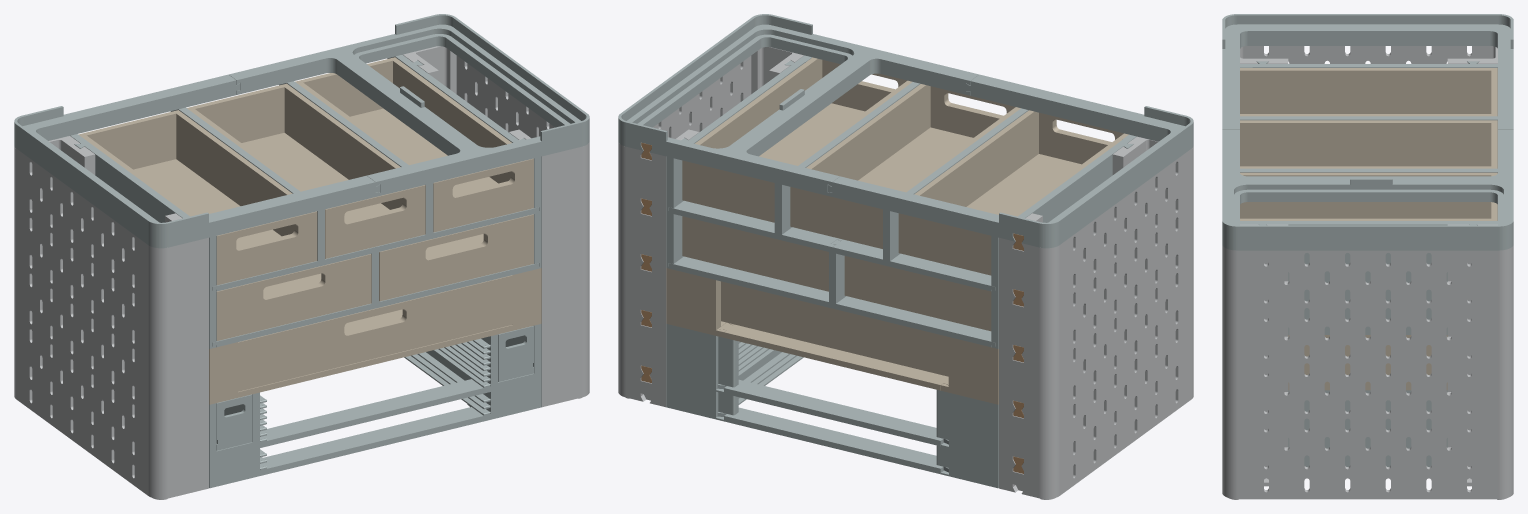
The model's file is stacknest-wide-pegboard.glb.
3 renders of one model, left to right at view 1: azimuth 30°, elevation 25°; view 2: azimuth 150°, elevation 25°; view 3: azimuth 270°, elevation 25°, orthographic.
Parts seen in each view (by area): view 1: device_adapter_2, 3drawers_drawer_1, 3drawers_drawer_2, device_adapter_1, standard_2_drawer_1, 3drawers_drawer_3, 3drawers_end_left_1, standard_2_end_left_1, standard_1_end_left_1, 2drawers_end_left_1, 2drawers_drawer_1, 2drawers_drawer_2 (+25 smaller); view 2: device_adapter_2, device_adapter_1, 3drawers_drawer_2, 3drawers_drawer_1, 3drawers_end_left_1, 3drawers_drawer_3, standard_2_end_left_1, 2drawers_end_left_1, standard_1_end_left_1, standard_2_drawer_2, 3drawers_end_right_1, 2drawers_drawer_1 (+25 smaller); view 3: device_adapter_2, 3drawers_end_right_1, standard_2_end_right_1, standard_1_end_right_1, 2drawers_end_right_1, 3drawers_drawer_1, 3drawers_drawer_2, device_adapter_1, low_0_end_right_1, 3drawers_drawer_3, 3drawers_end_left_1, 3drawers_side_right (+6 smaller).
Part boxes in pixels (box(x1,y1,x2,y2)): device_adapter_2: box(229, 14, 589, 196); 3drawers_drawer_1: box(78, 110, 317, 285); 3drawers_drawer_2: box(187, 83, 425, 258); device_adapter_1: box(14, 74, 379, 248); standard_2_drawer_1: box(238, 275, 512, 391); 3drawers_drawer_3: box(295, 57, 533, 232); 3drawers_end_left_1: box(14, 136, 208, 303); standard_2_end_left_1: box(14, 258, 208, 415); standard_1_end_left_1: box(14, 314, 208, 471); 2drawers_end_left_1: box(14, 202, 208, 359); 2drawers_drawer_1: box(216, 254, 371, 340); 2drawers_drawer_2: box(379, 214, 533, 301); device_adapter_2: box(618, 14, 978, 196); device_adapter_1: box(828, 74, 1193, 248); 3drawers_drawer_2: box(790, 84, 1020, 248); 3drawers_drawer_1: box(898, 110, 1128, 275); 3drawers_end_left_1: box(999, 136, 1193, 303); 3drawers_drawer_3: box(682, 57, 912, 222); standard_2_end_left_1: box(999, 258, 1193, 415); 2drawers_end_left_1: box(999, 202, 1193, 359); standard_1_end_left_1: box(999, 314, 1193, 471); standard_2_drawer_2: box(721, 281, 948, 376); 3drawers_end_right_1: box(618, 47, 803, 211); 2drawers_drawer_1: box(844, 256, 991, 331); device_adapter_2: box(1222, 129, 1513, 250); 3drawers_end_right_1: box(1222, 224, 1513, 305); standard_2_end_right_1: box(1222, 348, 1513, 416); standard_1_end_right_1: box(1222, 403, 1513, 471); 2drawers_end_right_1: box(1222, 293, 1513, 360); 3drawers_drawer_1: box(1240, 68, 1497, 116); 3drawers_drawer_2: box(1240, 120, 1497, 168); device_adapter_1: box(1222, 14, 1513, 129); low_0_end_right_1: box(1222, 458, 1513, 499); 3drawers_drawer_3: box(1240, 172, 1497, 220); 3drawers_end_left_1: box(1240, 46, 1497, 63); 3drawers_side_right: box(1240, 221, 1497, 279).
Bounding box in the file's own units: 0.495 × 0.299 × 0.287.
